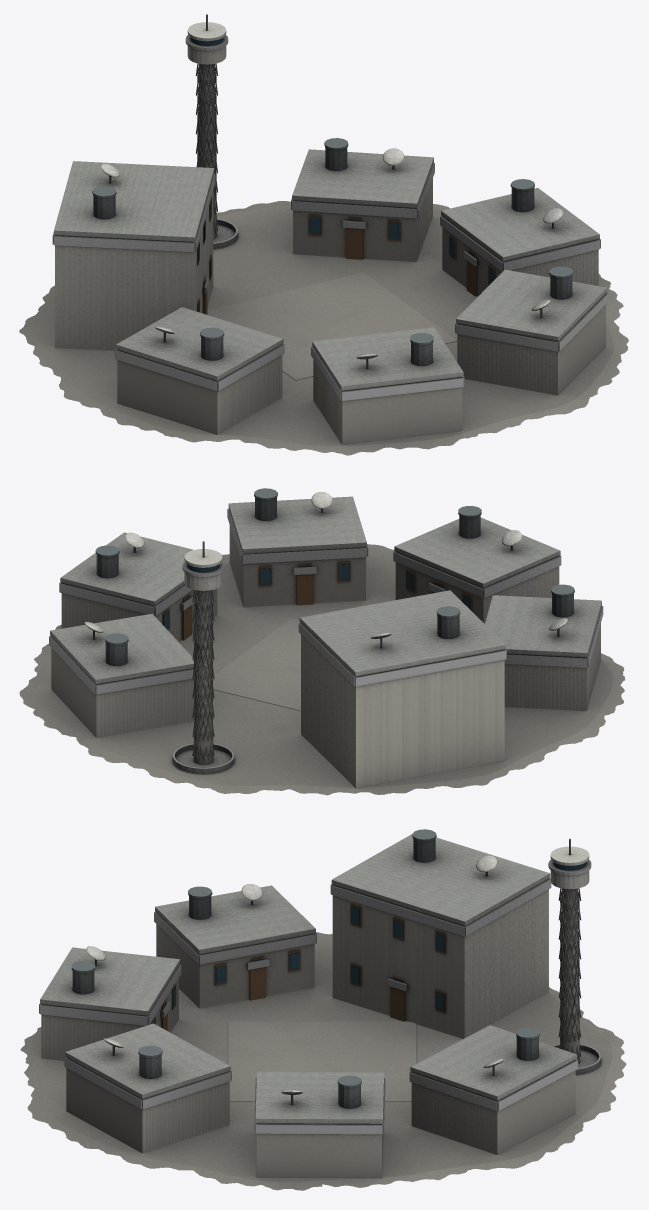
The model's file is modern-town-small-a-nile.glb.
3 renders of one model, top to bottom at view 1: azimuth 30°, elevation 25°; view 2: azimuth 150°, elevation 25°; view 3: azimuth 270°, elevation 25°, orthographic.
Parts seen in each view (by area): view 1: LOD0; view 2: LOD0; view 3: LOD0.
Boxes of the visible parts, <box> form: LOD0: <box>19,14,628,455</box>; LOD0: <box>19,488,625,795</box>; LOD0: <box>20,829,626,1190</box>.
Size of what is drawn, in the model's own units: 3.98 by 1.6 by 3.96.
Materials: 3 (3 with a texture image).
